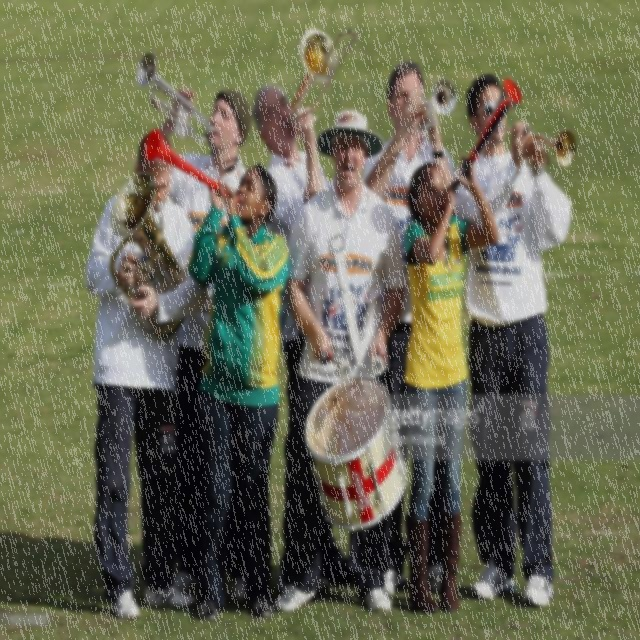pessoa: (270, 104, 410, 618), (446, 67, 578, 612), (80, 126, 214, 626), (132, 86, 255, 604), (362, 58, 457, 598), (183, 160, 293, 626), (252, 82, 348, 598), (403, 154, 499, 616)
